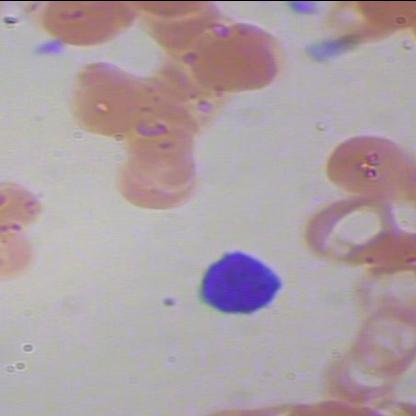Platelets: (32, 40, 70, 62), (284, 0, 322, 16), (240, 0, 277, 4)
RBC: (176, 21, 288, 95), (63, 58, 160, 140), (298, 197, 400, 268), (327, 127, 405, 202), (340, 300, 415, 377), (322, 342, 408, 404), (119, 151, 207, 210), (38, 0, 140, 48), (1, 177, 46, 237), (1, 224, 46, 284)
WBC: (182, 240, 296, 324)
